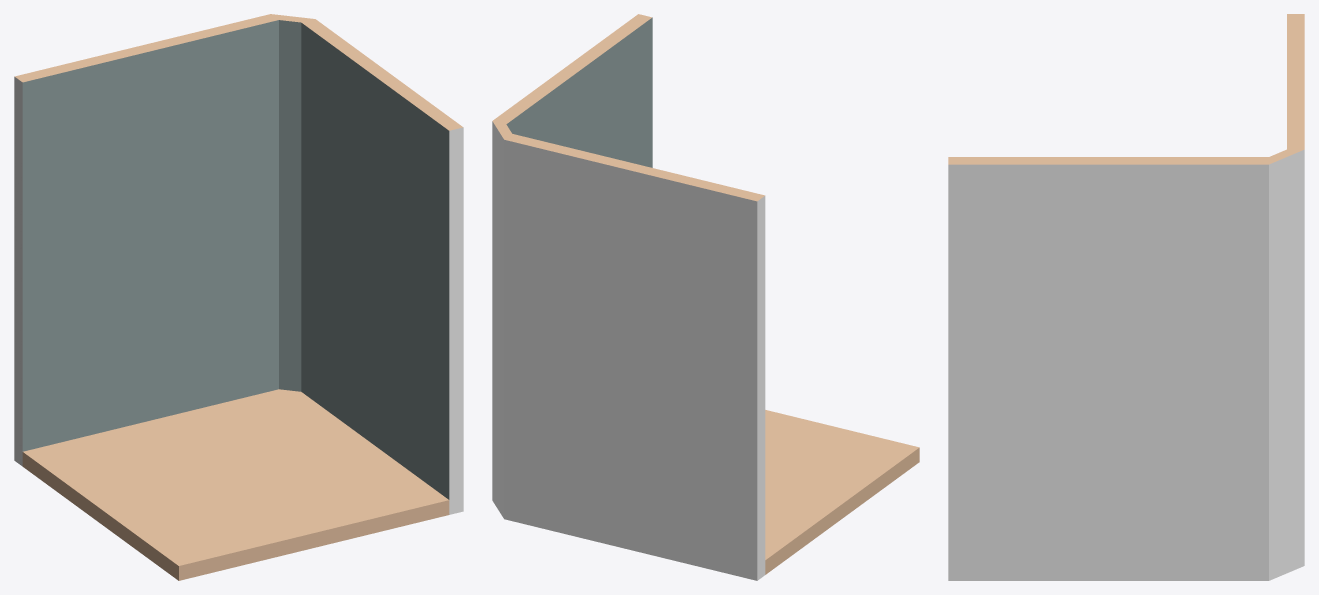
The model's file is wallCorner.fbx.
3 views of the same model, side by side, from view 1: azimuth 30°, elevation 25°; view 2: azimuth 150°, elevation 25°; view 3: azimuth 270°, elevation 25° (orthographic). The views are drawn at different scales.
Parts seen in each view (by area): view 1: wall_corner; view 2: wall_corner; view 3: wall_corner.
Boxes of the visible parts, bbox=[...] form: wall_corner: bbox=[14, 14, 463, 580]; wall_corner: bbox=[492, 14, 919, 580]; wall_corner: bbox=[948, 14, 1304, 580].
Size of the model in its own units: 100 by 100 by 129.
